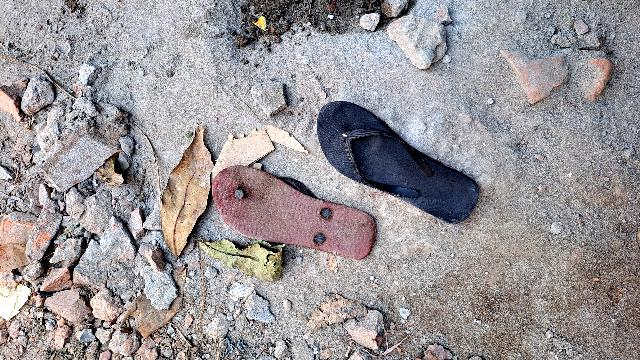sandal: (286, 83, 498, 249), (215, 162, 383, 255)
